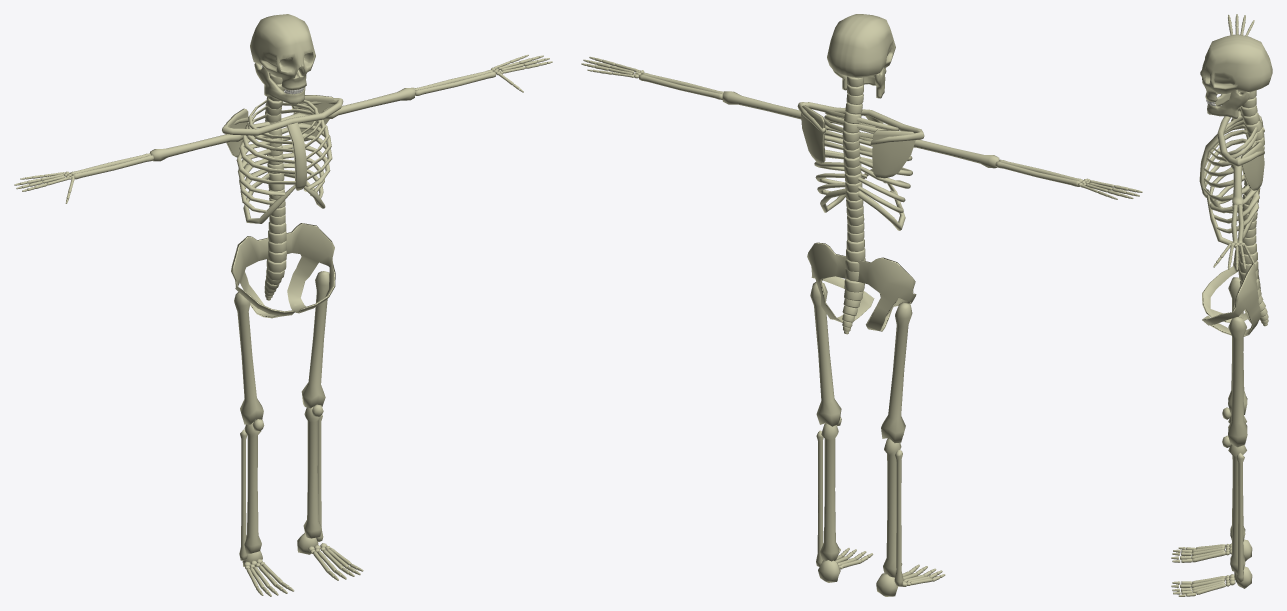
Rendered from Skeleton.fbx.
3 renders of one model, left to right at view 1: azimuth 30°, elevation 25°; view 2: azimuth 150°, elevation 25°; view 3: azimuth 270°, elevation 25°, orthographic. The views are drawn at different scales.
Parts seen in each view (by area): view 1: mRibCage, mHips, mSkullUpper, gLegLower1, Skeleton_LeftLeg_gLegLower, Skeleton_LeftUpLeg_mLegUpper, mLegUpper1, mArmUpper (×2), Skeleton_LeftFoot_gFootMain, gFootMain1, gJaw2, mArmLower4 (+1 smaller); view 2: mRibCage, mHips, mSkullUpper, Skeleton_LeftLeg_gLegLower, gLegLower1, mLegUpper1, Skeleton_LeftUpLeg_mLegUpper, mArmUpper (×2), mArmLower4, mArnLower, gFootMain1; view 3: mRibCage, mSkullUpper, mHips, Skeleton_LeftUpLeg_mLegUpper, Skeleton_LeftLeg_gLegLower, Skeleton_LeftFoot_gFootMain, gJaw2, gFootMain1, mLegUpper1, gNeck, mArnLower, mArmUpper (+5 smaller).
Boxes of the visible parts, x1,y1,x2,y2 form: mRibCage: (222,95,343,223); mHips: (231,223,335,318); mSkullUpper: (250,14,315,92); gLegLower1: (239,420,261,560); Skeleton_LeftLeg_gLegLower: (303,406,323,542); Skeleton_LeftUpLeg_mLegUpper: (301,271,329,416); mLegUpper1: (234,292,264,431); mArmUpper (×2): (150,87,415,161); Skeleton_LeftFoot_gFootMain: (297,533,351,573); gFootMain1: (242,551,283,589); gJaw2: (254,63,305,104); mArmLower4: (69,153,153,179); mRibCage: (797,102,924,230); mHips: (807,242,916,334); mSkullUpper: (827,14,895,78); Skeleton_LeftLeg_gLegLower: (816,423,839,566); gLegLower1: (883,438,903,586); mLegUpper1: (881,302,912,442); Skeleton_LeftUpLeg_mLegUpper: (810,282,841,426); mArmUpper (×2): (722,91,999,168); mArmLower4: (995,159,1083,186); mArnLower: (639,72,723,99); gFootMain1: (876,571,932,596); mRibCage: (1199,106,1264,247); mSkullUpper: (1200,34,1272,103); mHips: (1202,246,1268,336); Skeleton_LeftUpLeg_mLegUpper: (1222,316,1247,447); Skeleton_LeftLeg_gLegLower: (1228,444,1246,582); Skeleton_LeftFoot_gFootMain: (1191,566,1252,594); gJaw2: (1207,90,1249,118); gFootMain1: (1191,539,1252,562); mLegUpper1: (1222,277,1247,419); gNeck: (1240,90,1259,125); mArnLower: (1231,204,1244,243); mArmUpper: (1231,164,1243,210).
Size of the model in its own units: 184 by 180 by 30.99.
